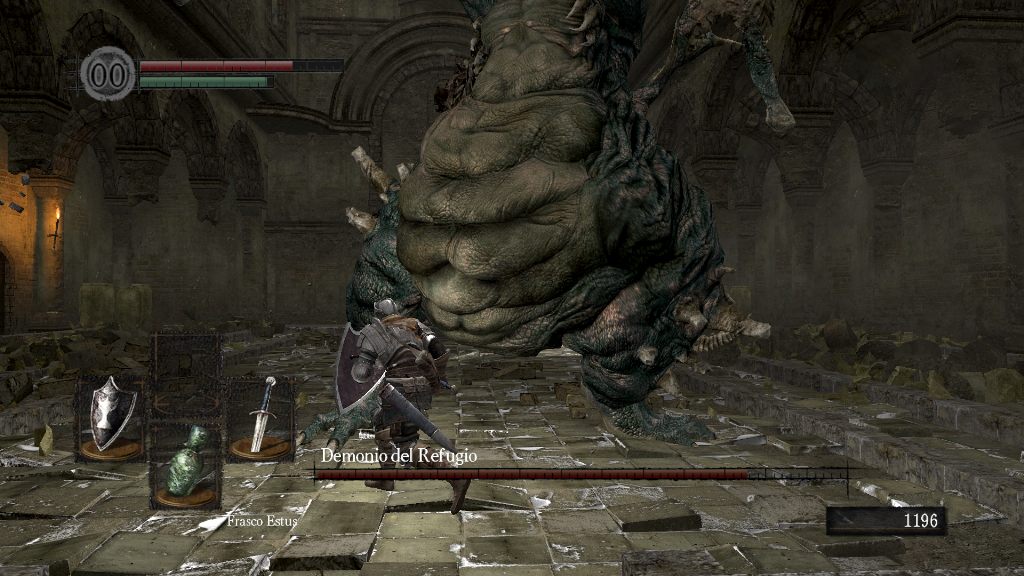asylumDemon: (339, 2, 799, 457)
bossHP: (314, 469, 847, 479)
health: (138, 58, 343, 71)
humanity: (80, 45, 136, 102)
player: (333, 295, 474, 515)
souls: (825, 506, 945, 536)
stamina: (138, 74, 274, 88)
